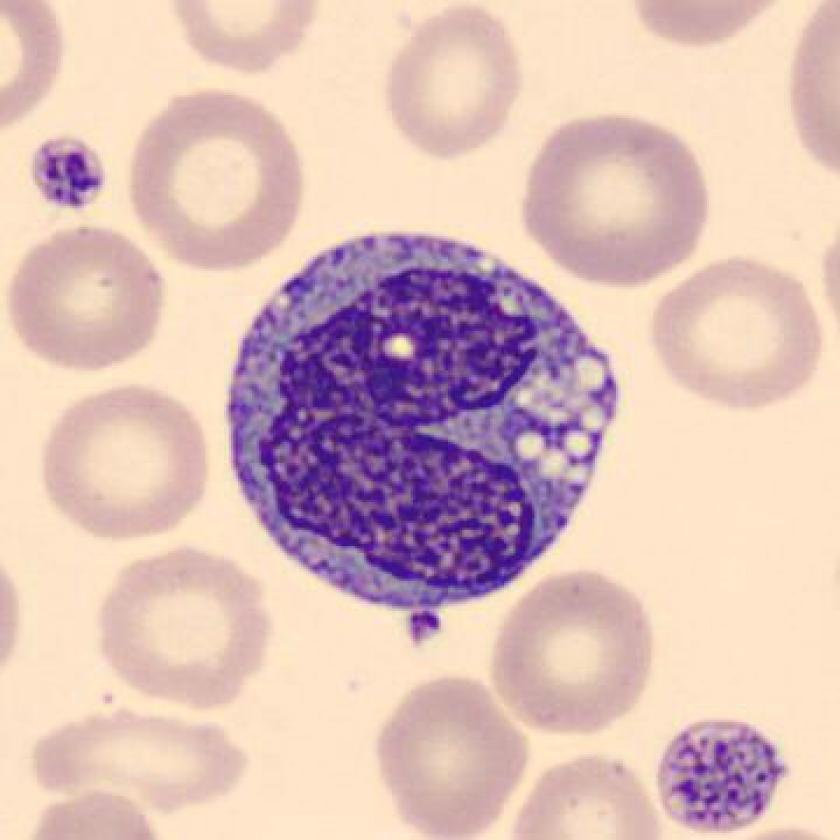monocyte: (206, 216, 636, 621)
